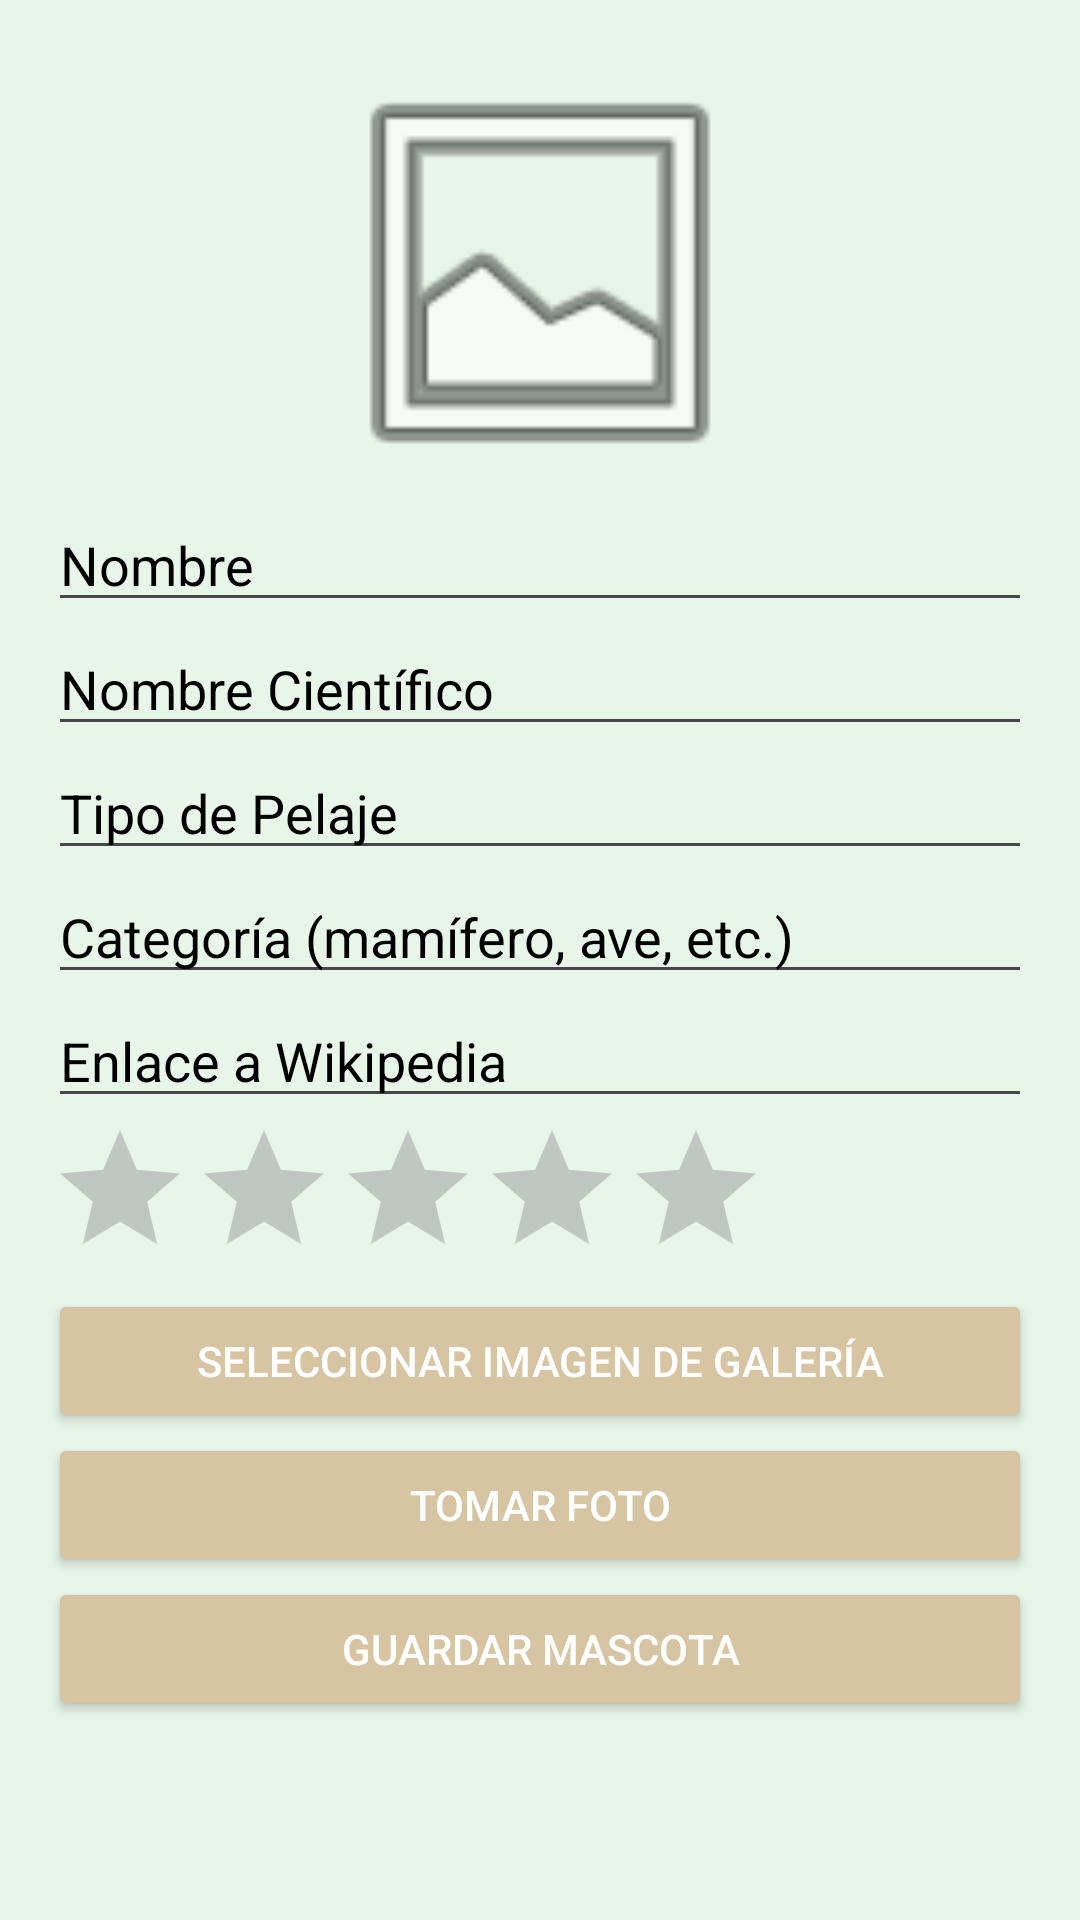

Named icons in this screenshot (1080*1920) and their bounding boxes, (x1, y1, x2, y2):
gallery: (369, 102, 711, 444)
